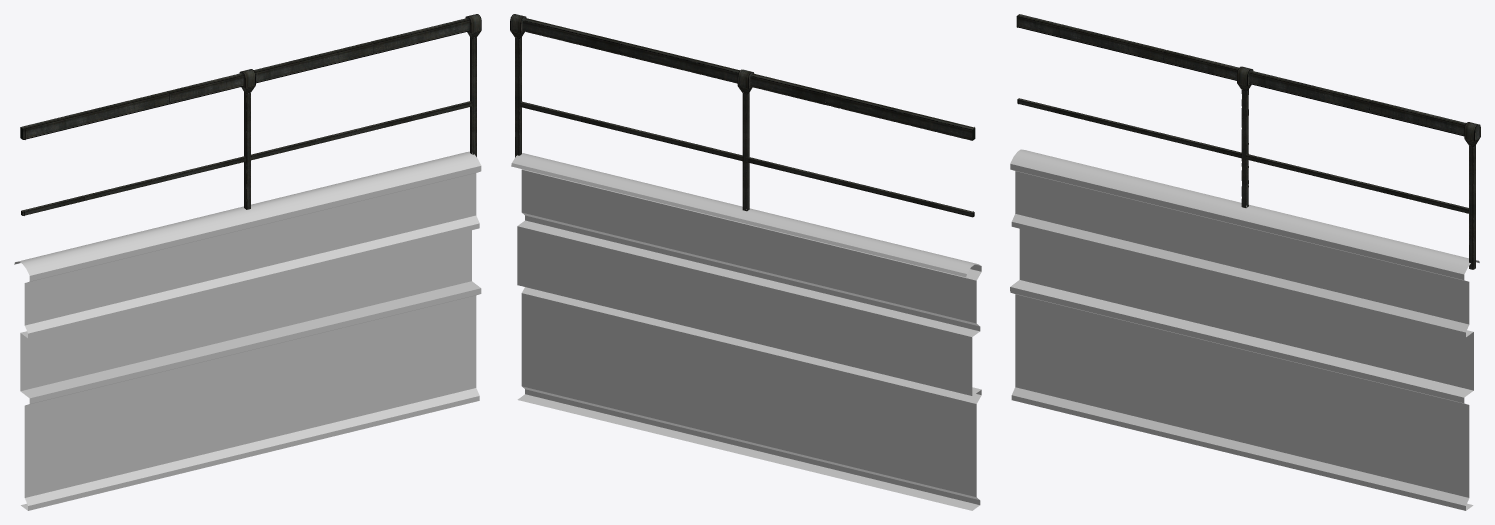
The model's file is engineroom_straight.dae.
3 renders of one model, left to right at view 1: azimuth 30°, elevation 25°; view 2: azimuth 150°, elevation 25°; view 3: azimuth 330°, elevation 25°, orthographic.
Parts seen in each view (by area): view 1: balcony_straight_metal, balcony_straight_bricks, balcony_straight_rail; view 2: balcony_straight_metal, balcony_straight_bricks, balcony_straight_rail; view 3: balcony_straight_metal, balcony_straight_bricks, balcony_straight_rail.
Part boxes in pixels (x1=…): balcony_straight_metal: x1=14, y1=151, x2=481, y2=510; balcony_straight_bricks: x1=20, y1=230, x2=471, y2=391; balcony_straight_rail: x1=20, y1=14, x2=481, y2=215; balcony_straight_metal: x1=511, y1=153, x2=981, y2=510; balcony_straight_bricks: x1=517, y1=226, x2=972, y2=395; balcony_straight_rail: x1=510, y1=14, x2=975, y2=217; balcony_straight_metal: x1=1010, y1=149, x2=1479, y2=510; balcony_straight_bricks: x1=1019, y1=229, x2=1473, y2=390; balcony_straight_rail: x1=1016, y1=14, x2=1480, y2=269.
Bounding box in the file's own units: 405 × 322 × 23.67.
